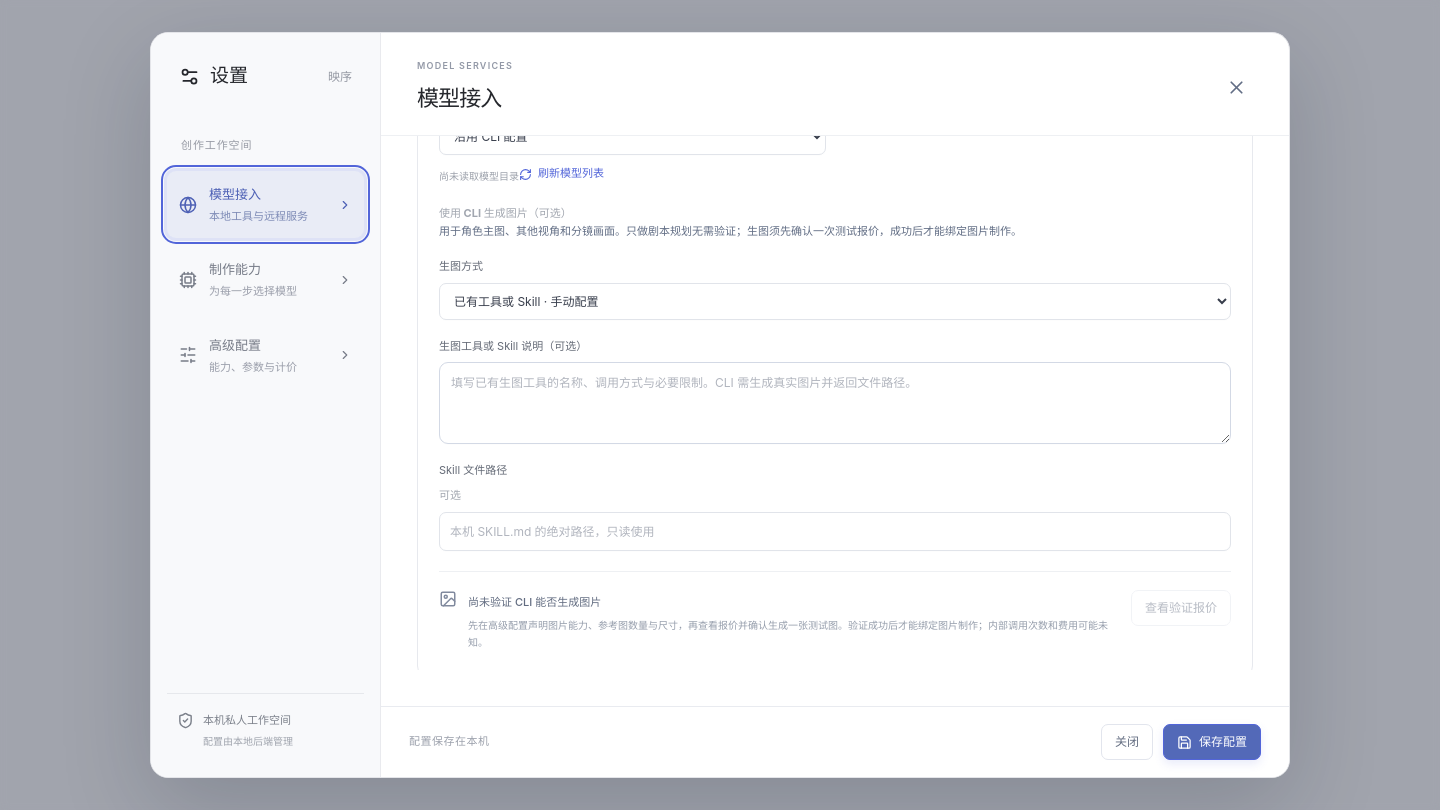
Scenario: 模型服务交互 › 旧 Codex 保留通用工具方式，切换生图方式不会丢失工具草稿
The image size is (1440, 810).
(page scrolled)
Expected: the dropdown labelled "生图方式" shows "已有工具或 Skill · 手动配置", [439,283,1231,320]
Type "已有的图片工具" into the text box labelled "生图工具或 Skill 说明（可选）" at (835, 403), box [439,362,1231,444]
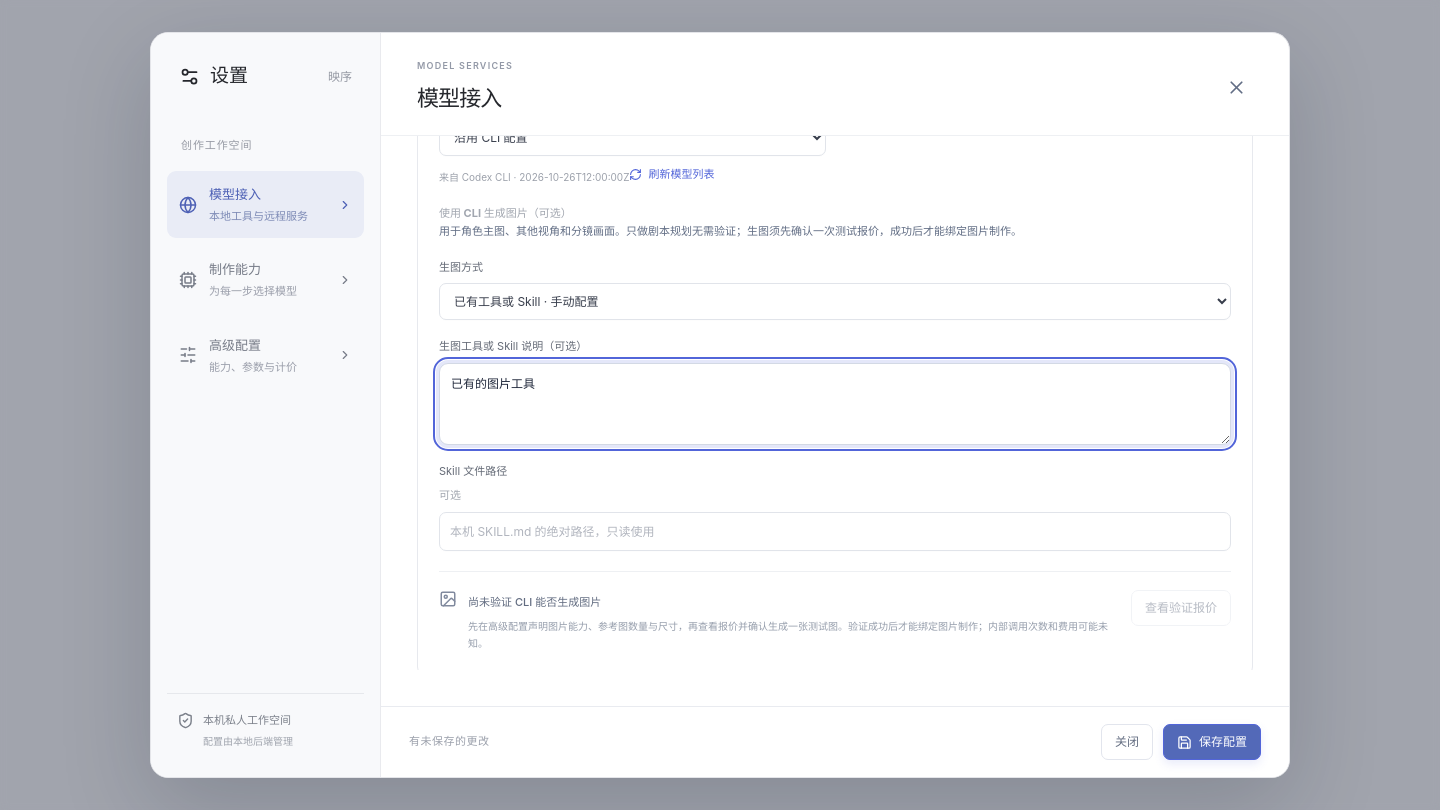
Select "Codex 生图 · 自动调用 imagegen" in the dropdown labelled "生图方式" at (835, 302), box [439,283,1231,320]
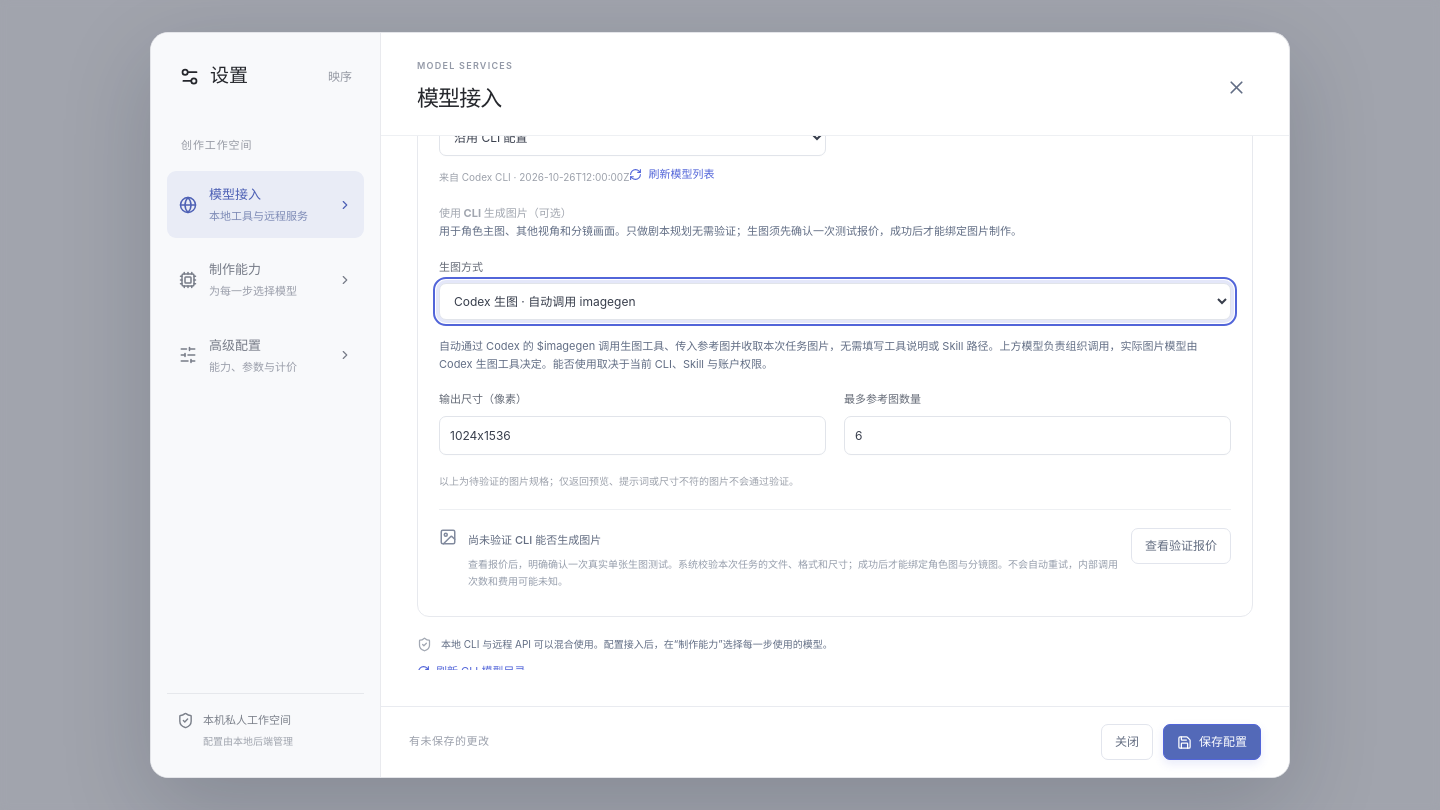
Result: the label labelled "生图工具或 Skill 说明" is gone
Result: the button "查看验证报价" is enabled at [1131,528,1231,564]
Select "已有工具或 Skill · 手动配置" in the dropdown labelled "生图方式" at (835, 302), box [439,283,1231,320]
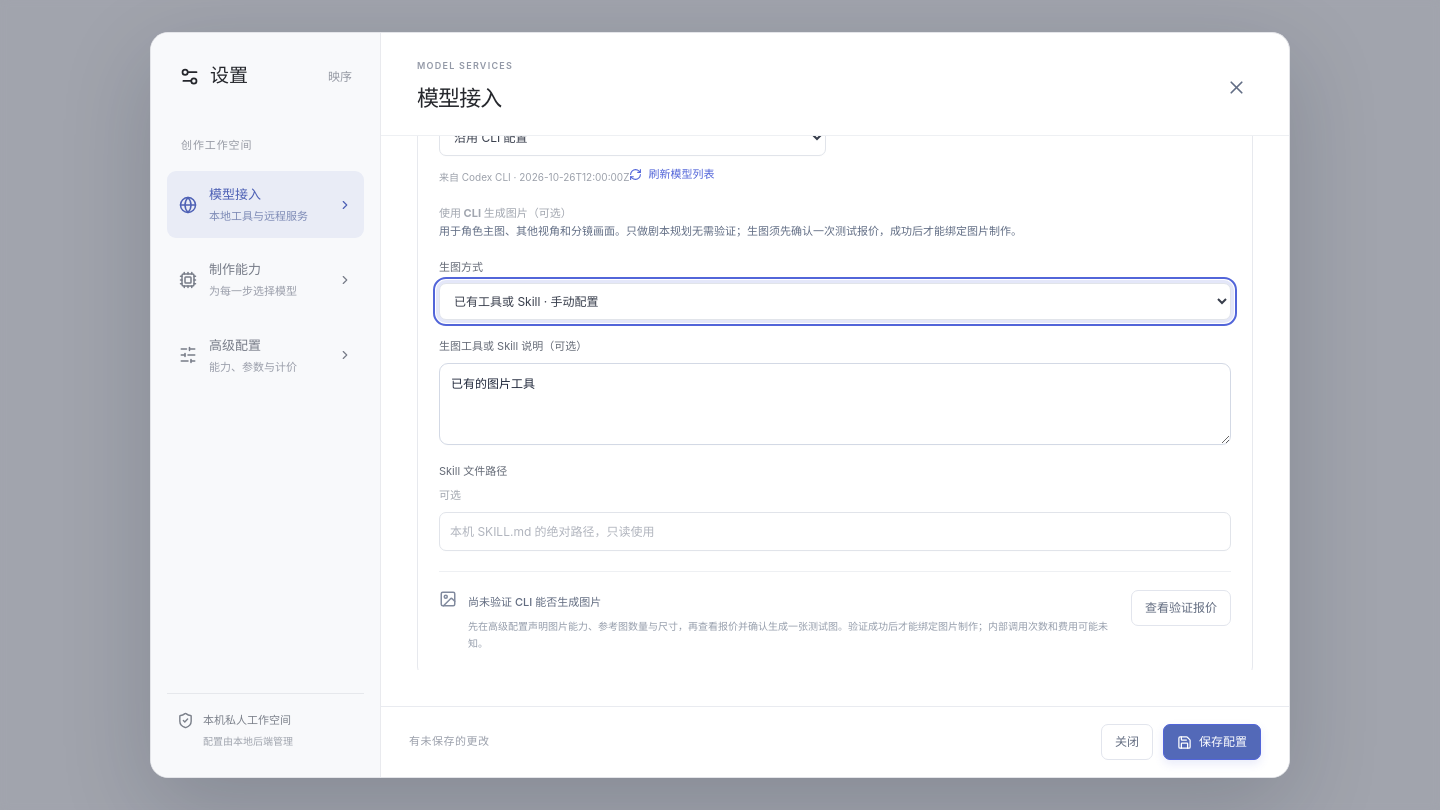
Result: the text box labelled "生图工具或 Skill 说明（可选）" holds "已有的图片工具" at [439,363,1231,445]
Result: the field with placeholder "本机 SKILL.md 的绝对路径，只读使用" is shown at [439,512,1231,551]
